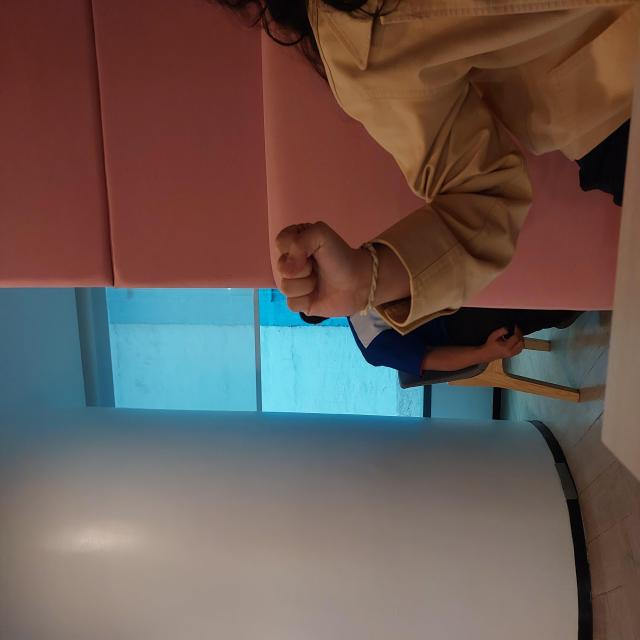S: (316, 271, 426, 371)
